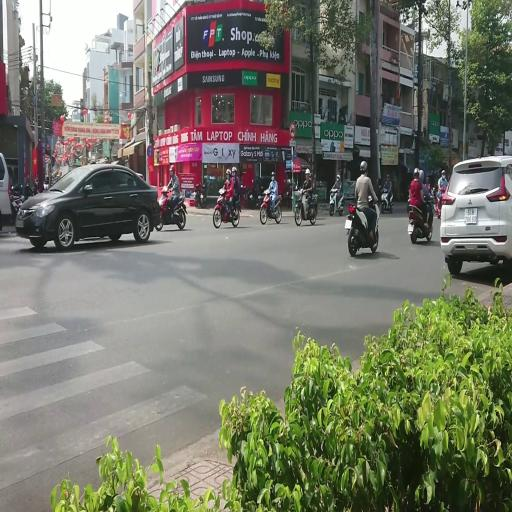bikes: (345, 199, 379, 256), (407, 194, 434, 244), (156, 186, 186, 230), (213, 189, 240, 228), (10, 181, 37, 220), (294, 187, 317, 226), (260, 189, 282, 224), (242, 178, 260, 208), (329, 186, 344, 216), (378, 185, 394, 213), (194, 182, 206, 208), (241, 184, 254, 207), (426, 185, 437, 212), (436, 186, 445, 218)
helmet: (360, 161, 367, 172), (419, 169, 424, 182), (414, 168, 420, 176), (226, 168, 231, 176), (162, 186, 167, 194), (231, 167, 237, 173), (219, 188, 225, 194), (305, 168, 310, 174), (170, 166, 175, 172), (426, 184, 431, 190), (386, 174, 390, 180), (271, 172, 275, 178), (430, 170, 434, 176), (264, 190, 270, 194), (438, 168, 442, 174), (441, 170, 445, 175), (337, 174, 340, 180), (426, 177, 429, 183), (252, 179, 254, 184)
